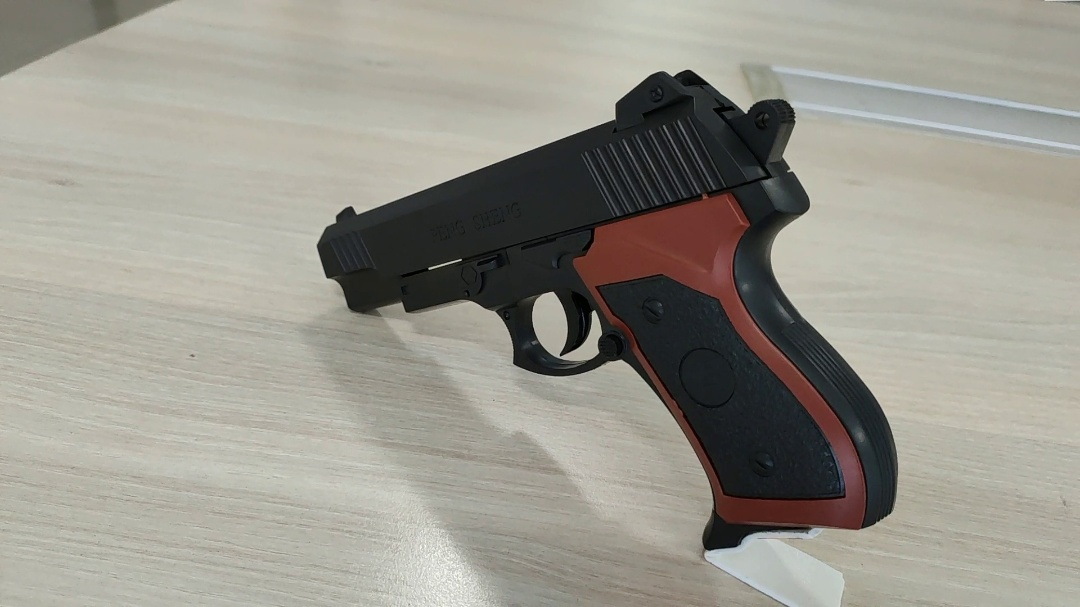gun: (310, 61, 901, 557)
